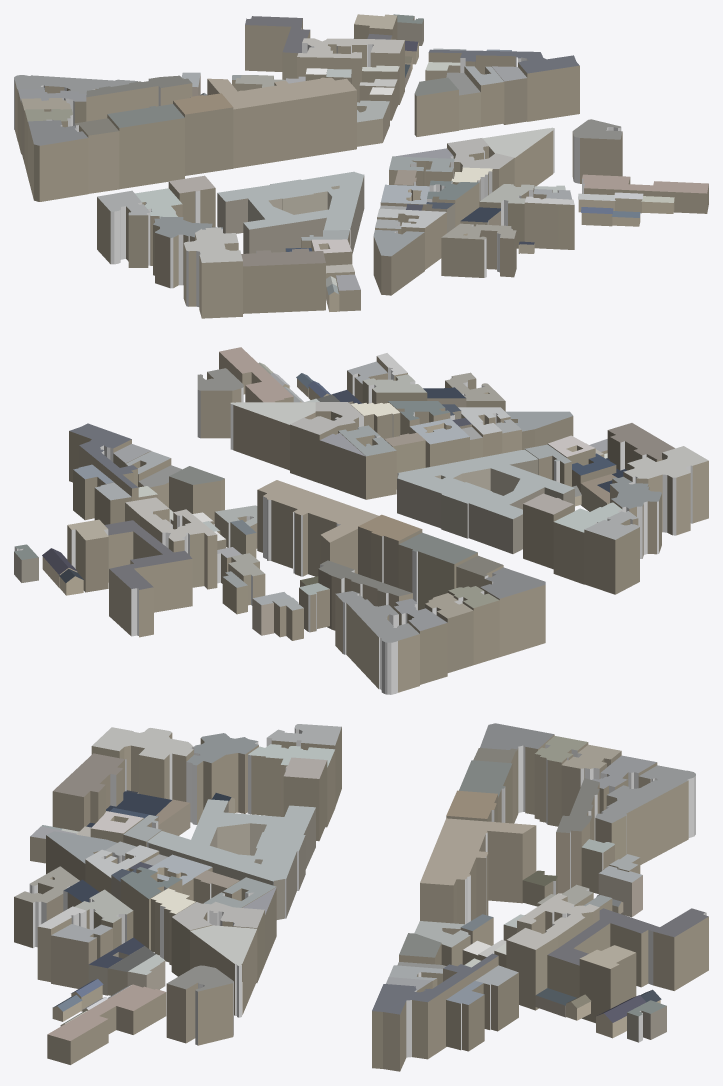
The picture shows the model from 3 angles, top to bottom: view 1: azimuth 30°, elevation 25°; view 2: azimuth 150°, elevation 25°; view 3: azimuth 270°, elevation 25°; orthographic projection. The views are drawn at different scales.
Parts seen in each view (by area): view 1: tuile; view 2: tuile; view 3: tuile.
Part boxes in pixels (x1,y1,x2,y2): tuile: (14,14,708,318); tuile: (14,347,708,694); tuile: (14,723,708,1071).
Size of the model in its own units: 283 by 36.79 by 285.
